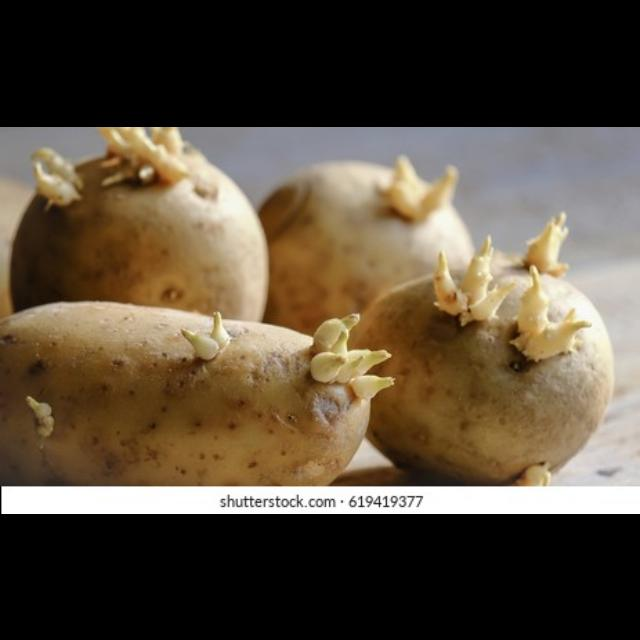Sprouted potato: (273, 216, 623, 482), (7, 298, 410, 484), (4, 127, 272, 356), (257, 146, 529, 350)
